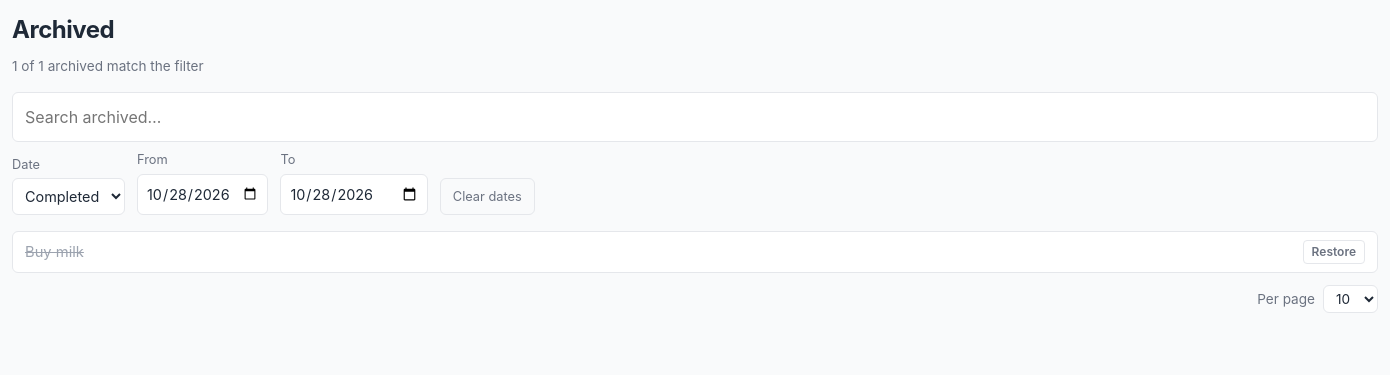
Test case: ArchivedView — search + pagination (#92) › reports no matches for a query that hits nothing
The width and height of the screenshot is (1390, 375).
Type "zzz" into the field labelled "Search archived…". click: (695, 117)
box: 12,92 -> 1378,142
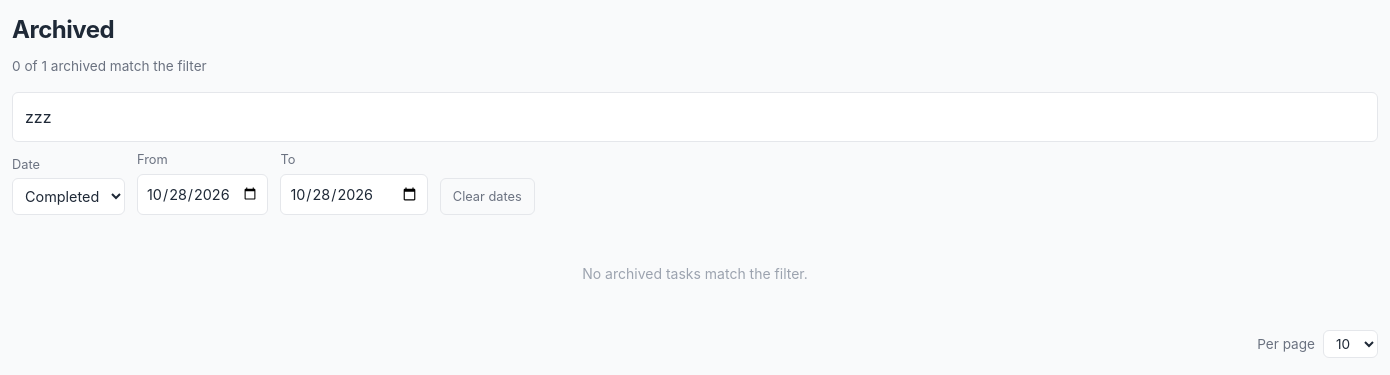
Expected: the text "No archived tasks match the filter." is shown, 582,265 -> 808,282
